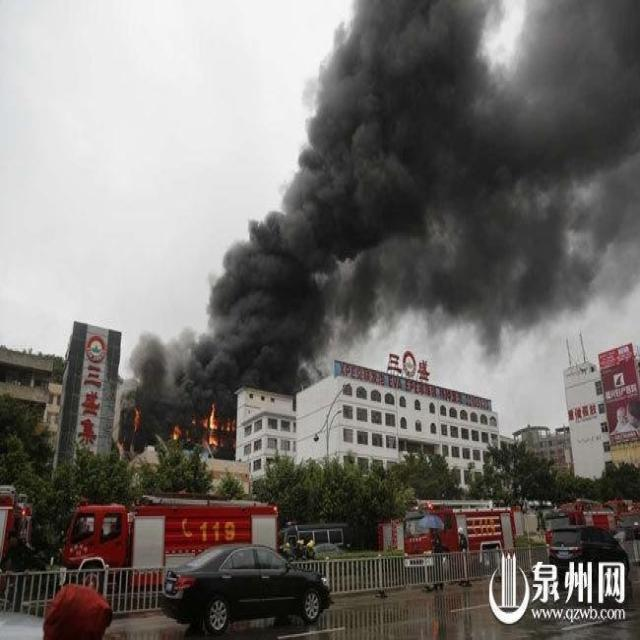Fire: (198, 404, 238, 447)
Smoke: (116, 1, 640, 442)
